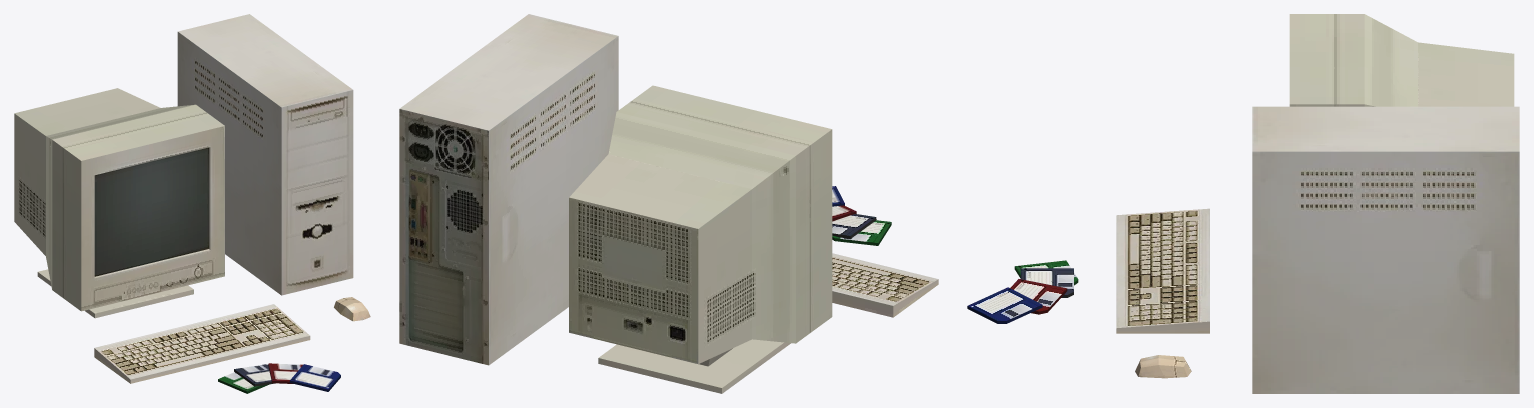
File: retro-computer.glb
The picture shows the model from 3 angles, left to right: view 1: azimuth 30°, elevation 25°; view 2: azimuth 150°, elevation 25°; view 3: azimuth 270°, elevation 25°; orthographic projection. The views are drawn at different scales.
Visible parts, largest first — view 1: RetroMonitor, RetroComputer, RetroKeyboard, FloppyDisk_Blue, RetroMouse, FloppyDisk_Black, FloppyDisk_Red, FloppyDisk_Green; view 2: RetroMonitor, RetroComputer, RetroKeyboard, FloppyDisk_Black, FloppyDisk_Green; view 3: RetroComputer, RetroMonitor, RetroKeyboard, FloppyDisk_Blue, RetroMouse, FloppyDisk_Red, FloppyDisk_Black.
Boxes of the visible parts, box(x1,y1,x2,y2) form: RetroMonitor: box(14, 88, 224, 318); RetroComputer: box(177, 14, 353, 295); RetroKeyboard: box(94, 304, 310, 383); FloppyDisk_Blue: box(289, 364, 340, 391); RetroMouse: box(334, 297, 370, 321); FloppyDisk_Black: box(234, 364, 275, 386); FloppyDisk_Red: box(268, 363, 302, 383); FloppyDisk_Green: box(218, 372, 269, 393); RetroMonitor: box(569, 85, 832, 393); RetroComputer: box(399, 14, 618, 365); RetroKeyboard: box(832, 253, 938, 317); FloppyDisk_Black: box(832, 214, 876, 238); FloppyDisk_Green: box(832, 220, 891, 245); RetroComputer: box(1252, 106, 1519, 393); RetroMonitor: box(1289, 14, 1514, 106); RetroKeyboard: box(1116, 208, 1209, 333); FloppyDisk_Blue: box(967, 287, 1042, 323); RetroMouse: box(1135, 355, 1191, 378); FloppyDisk_Red: box(1010, 279, 1067, 314); FloppyDisk_Black: box(1020, 268, 1073, 297).
Bounding box in the file's own units: 0.92 × 0.6002 × 1.24.
4 materials, 4 textured.
